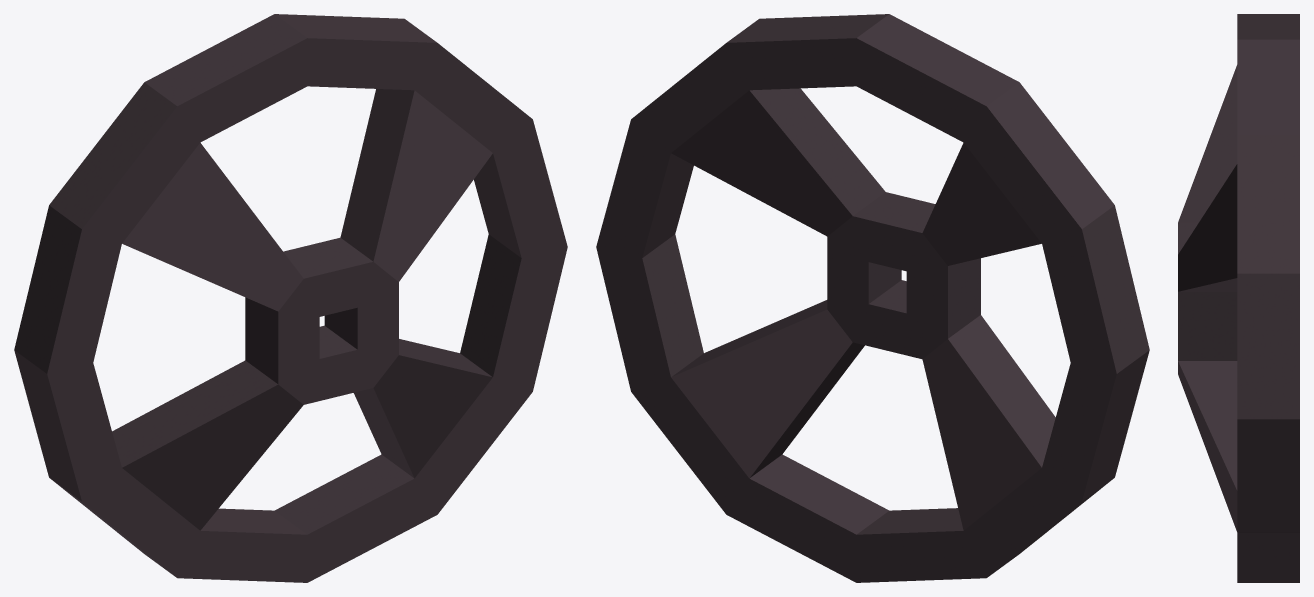
File: Generator Crank.fbx
3 views of the same model, side by side, from view 1: azimuth 30°, elevation 25°; view 2: azimuth 150°, elevation 25°; view 3: azimuth 270°, elevation 25° (orthographic). The views are drawn at different scales.
Visible parts, largest first — view 1: Baked Crank; view 2: Baked Crank; view 3: Baked Crank.
Part boxes in pixels (x1,y1,x2,y2): Baked Crank: [14, 14, 567, 582]; Baked Crank: [596, 14, 1149, 582]; Baked Crank: [1178, 14, 1299, 582].
Size of the model in its own units: 38.9 by 38.9 by 8.3.
Materials: 1 (1 with a texture image).
